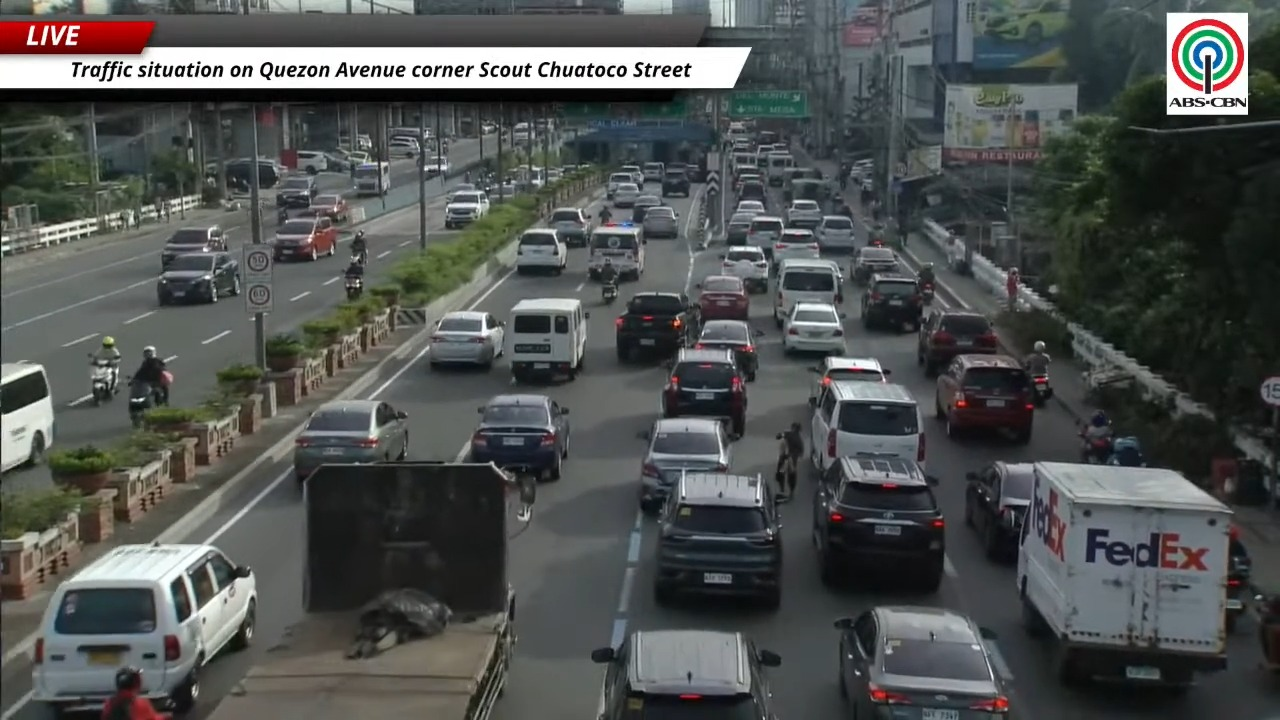car: (29, 542, 258, 716), (834, 605, 1020, 719), (812, 456, 944, 591), (653, 471, 782, 609), (591, 629, 780, 719), (809, 380, 926, 470), (293, 400, 408, 482), (936, 354, 1034, 443), (639, 418, 731, 512), (469, 394, 568, 480), (661, 349, 747, 436), (964, 461, 1034, 558), (917, 309, 998, 376), (157, 252, 240, 305), (428, 311, 504, 368), (695, 319, 760, 381), (808, 356, 890, 405), (861, 273, 923, 331), (784, 302, 846, 354), (161, 224, 226, 270), (272, 216, 336, 260), (697, 275, 749, 322), (515, 228, 567, 274), (721, 244, 769, 292), (772, 227, 819, 269), (850, 246, 899, 283), (748, 213, 784, 261), (225, 159, 284, 188), (445, 190, 490, 228), (548, 207, 591, 246), (815, 215, 856, 251), (276, 175, 317, 207), (785, 178, 830, 204), (641, 207, 678, 238), (785, 199, 822, 229), (311, 193, 349, 222), (631, 194, 662, 224), (726, 213, 754, 245), (661, 166, 690, 196), (296, 150, 329, 174), (612, 182, 641, 209), (732, 160, 757, 191), (606, 172, 633, 199), (422, 155, 451, 178), (734, 169, 763, 192), (387, 137, 420, 157), (445, 183, 478, 203), (737, 181, 767, 202), (324, 150, 351, 172), (620, 165, 643, 185), (642, 162, 664, 182), (735, 199, 765, 213)
motorcycle: (1224, 554, 1250, 632), (1254, 595, 1279, 673), (128, 380, 155, 428), (90, 359, 118, 405), (1079, 428, 1112, 464), (1032, 373, 1052, 407), (344, 276, 362, 299), (601, 281, 617, 304), (921, 282, 934, 304), (349, 249, 368, 264)
truck: (209, 462, 518, 719), (1016, 462, 1232, 689), (615, 291, 700, 361)
